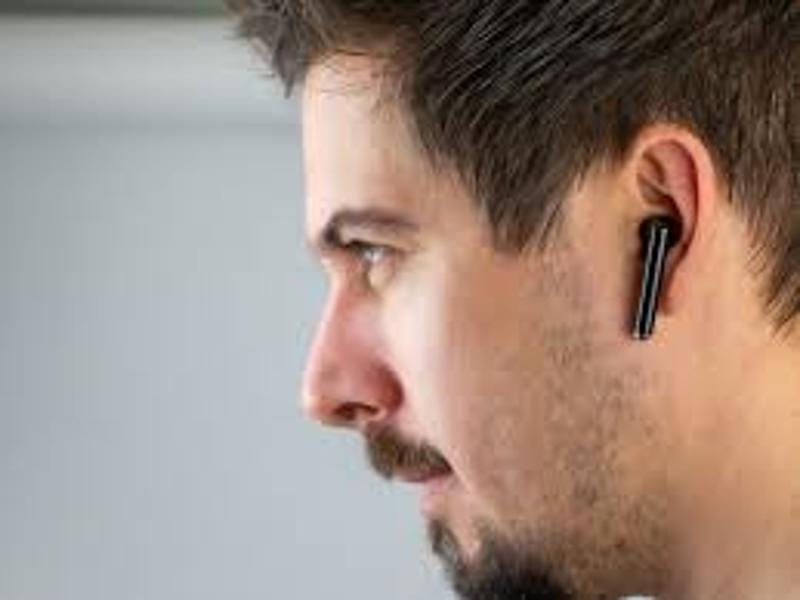headphone: (627, 210, 681, 342)
